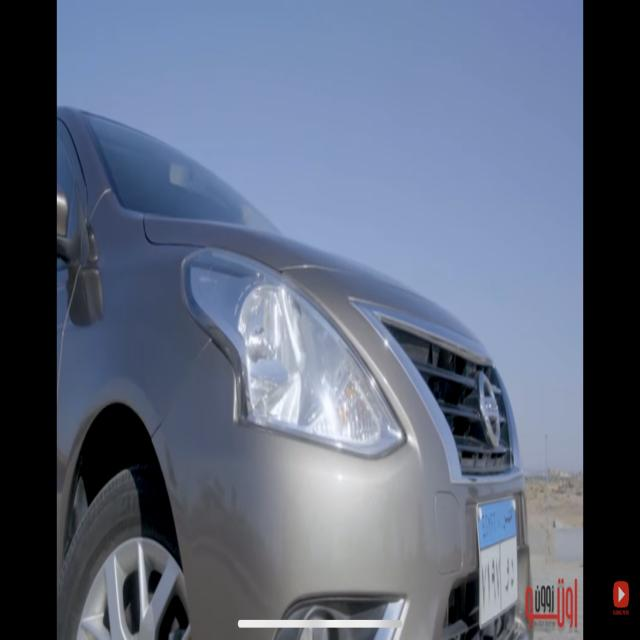License Plate: (477, 500, 517, 628)
